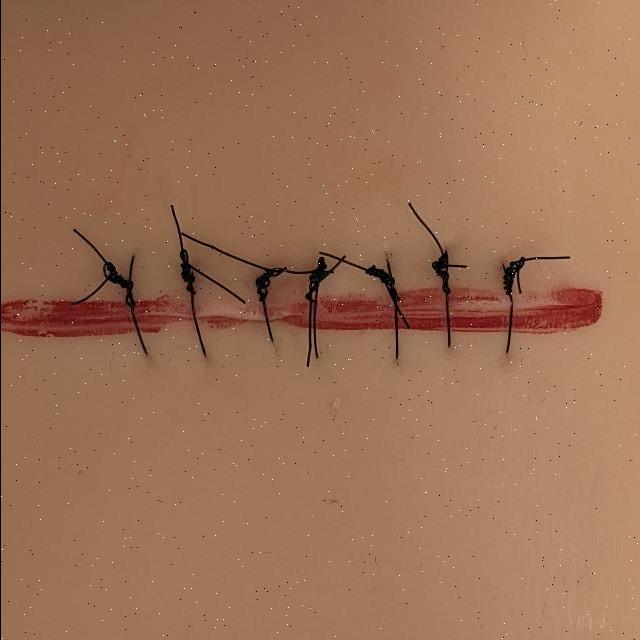suture_good: (307, 255, 331, 367), (498, 258, 524, 358), (253, 264, 281, 348)
suture_loose: (125, 253, 154, 362), (386, 250, 400, 364)
suture_tight: (436, 245, 456, 356), (188, 256, 205, 366)
